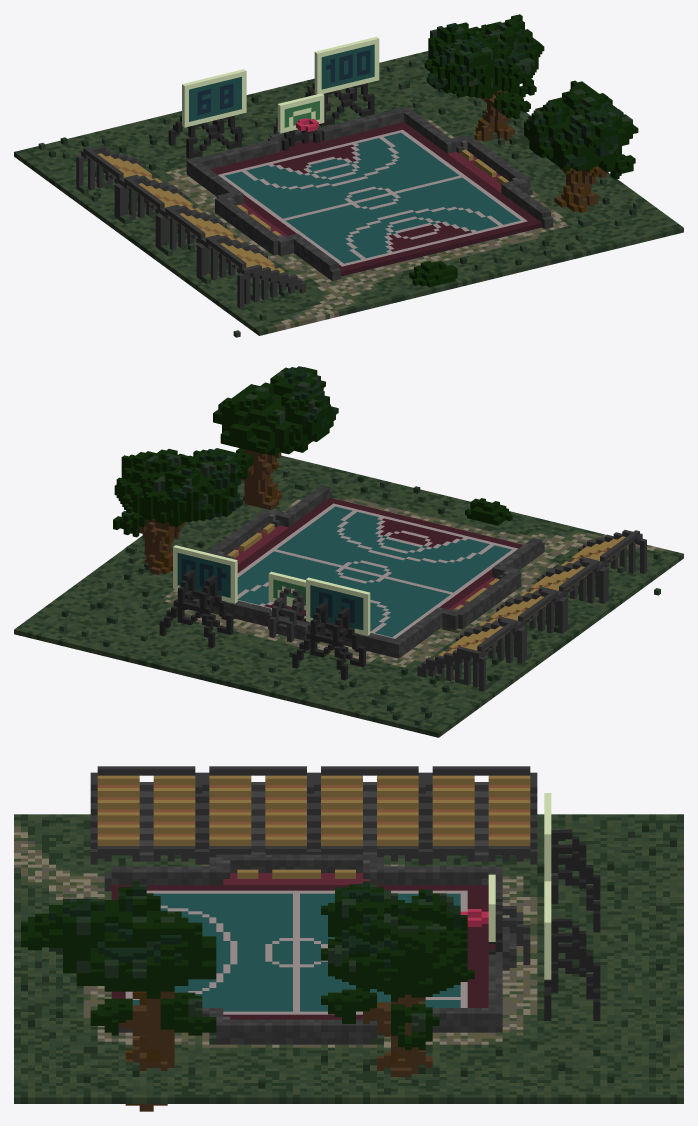
Rendered from Basket_Grid.glb.
3 views of the same model, one above another, from view 1: azimuth 30°, elevation 25°; view 2: azimuth 150°, elevation 25°; view 3: azimuth 270°, elevation 25° (orthographic). The views are drawn at different scales.
Visible parts, largest first — view 1: Untitled; view 2: Untitled; view 3: Untitled.
Part boxes in pixels (x1,y1,x2,y2): Untitled: (14, 14, 683, 337); Untitled: (14, 366, 683, 737); Untitled: (14, 766, 683, 1111).
Bounding box in the file's own units: 9.6 × 2.9 × 9.6.
1 material, 1 textured.
